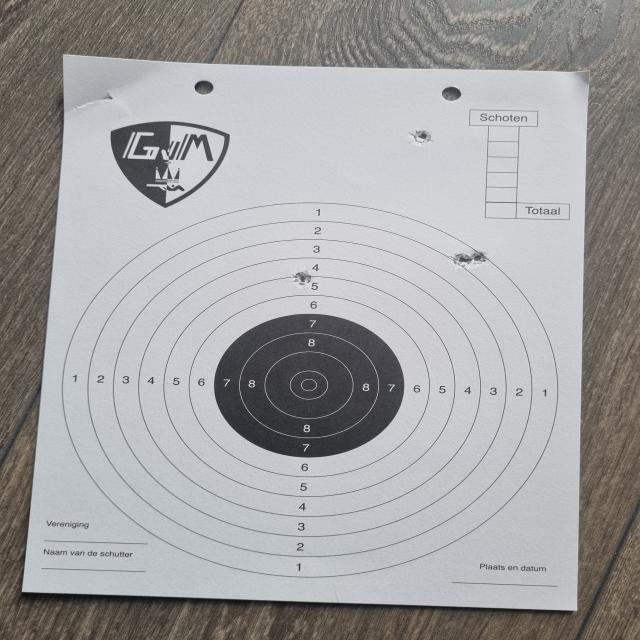0: (408, 129, 434, 145)
1: (470, 252, 490, 266)
2: (448, 254, 472, 266)
5: (292, 270, 312, 285)
Target: (63, 198, 561, 578)
black_contour: (214, 313, 405, 458)
